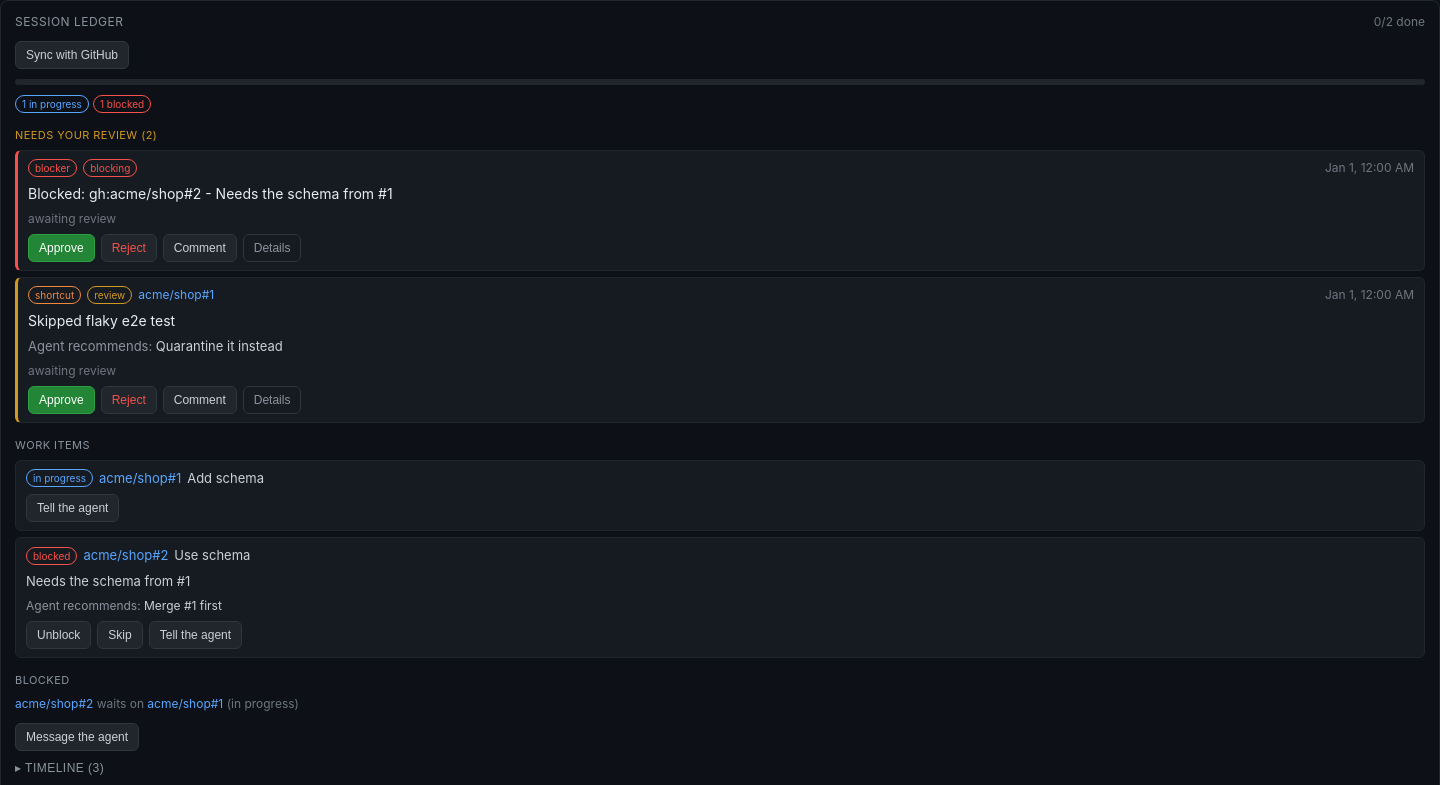
Scenario: LedgerPanel › syncs with GitHub on demand and says what moved
Click the button "Sync with GitHub".
click(72, 55)  # box [15,41,129,69]
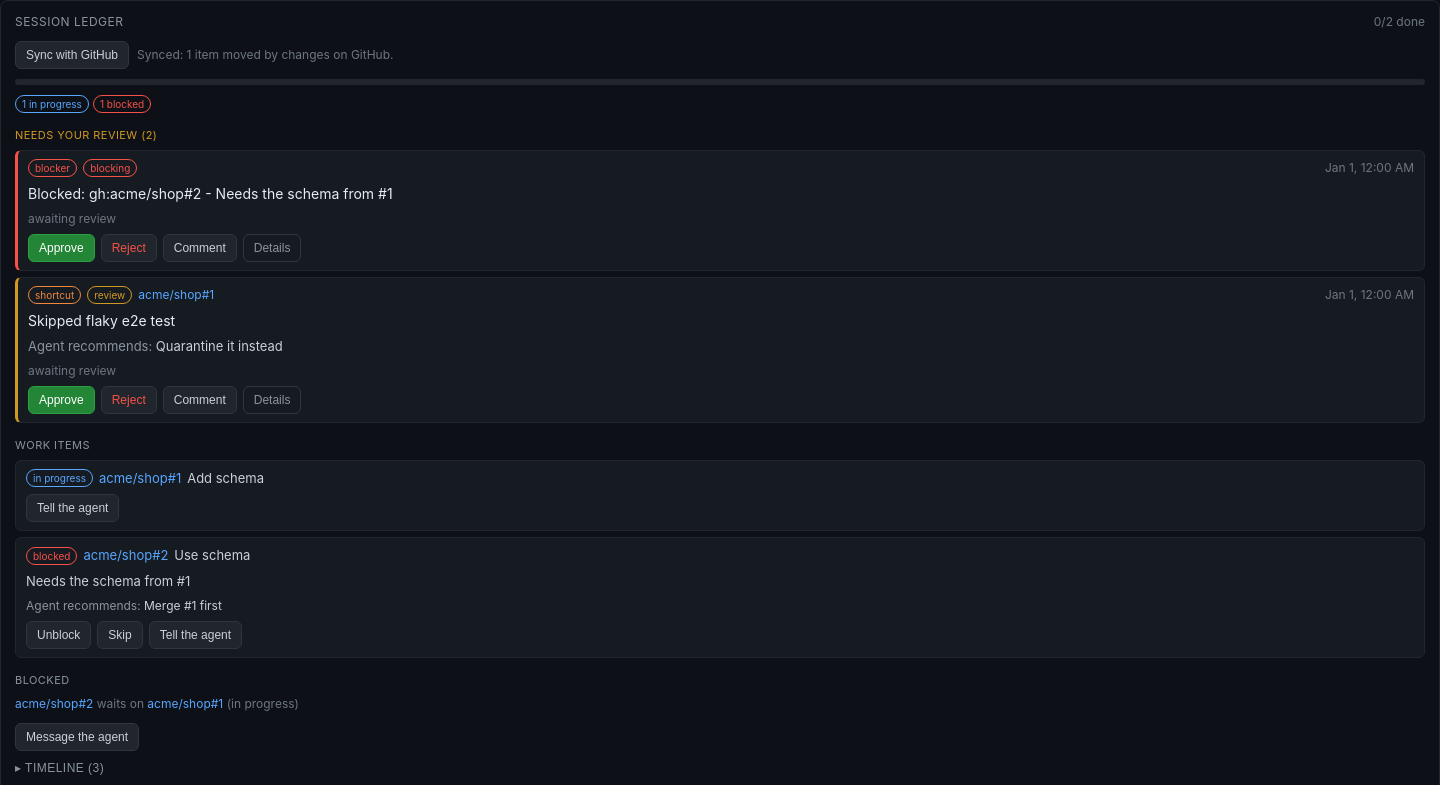
expect the text "Synced: 1 item moved by changes on GitHub." is shown: met, box [137,46,394,64]
